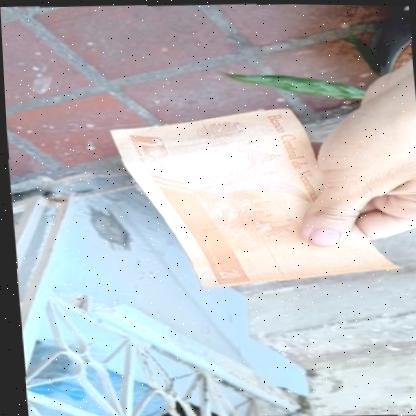twenty-back-vef: (106, 100, 403, 296)
